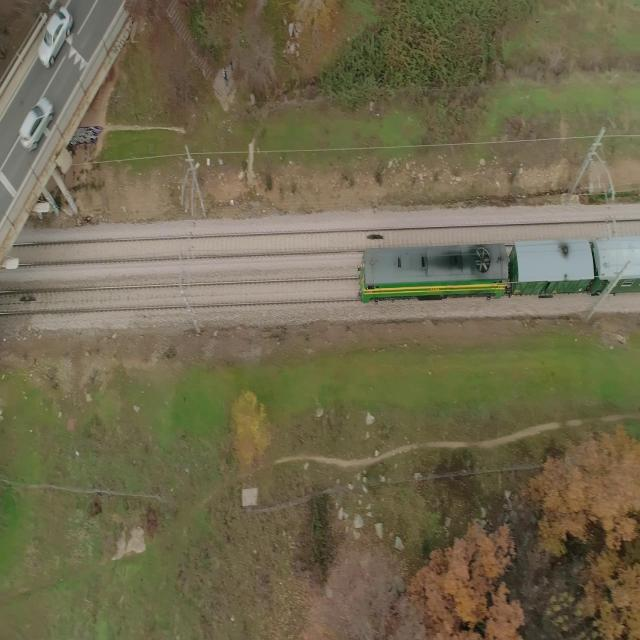Car: (34, 6, 78, 79), (16, 86, 56, 165)
Truck: (345, 235, 640, 303)
